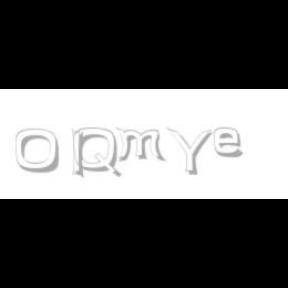O: (16, 128, 60, 174)
Q: (73, 128, 119, 178)
Y: (166, 128, 212, 176)
e: (214, 128, 246, 158)
l: (72, 128, 88, 180)
m: (115, 128, 167, 162)
